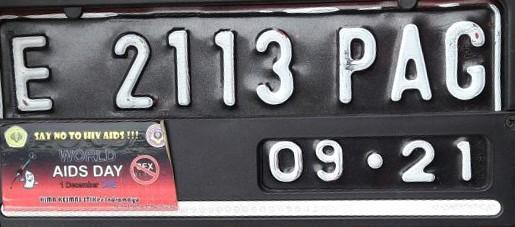clone-license-plate: (0, 2, 506, 194)
